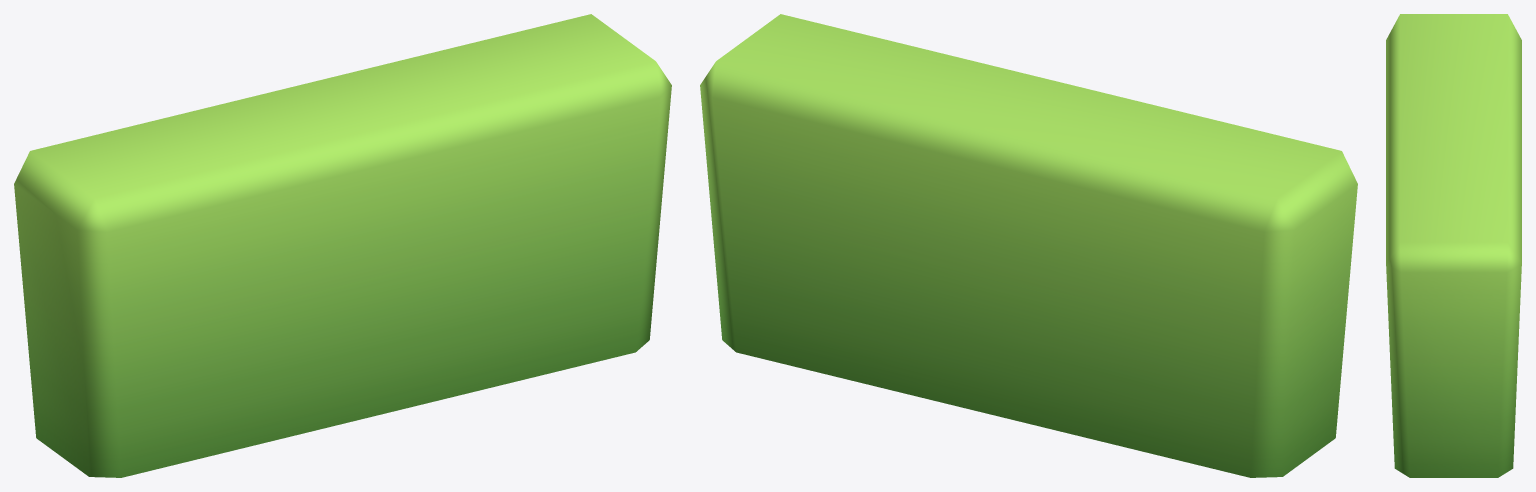
File: city2-bush-01.glb
3 renders of one model, left to right at view 1: azimuth 30°, elevation 25°; view 2: azimuth 150°, elevation 25°; view 3: azimuth 270°, elevation 25°, orthographic. The views are drawn at different scales.
Visible parts, largest first — view 1: Bush_01; view 2: Bush_01; view 3: Bush_01.
Boxes of the visible parts, x1=… form: Bush_01: x1=14, y1=14, x2=671, y2=477; Bush_01: x1=700, y1=14, x2=1357, y2=477; Bush_01: x1=1386, y1=14, x2=1521, y2=477.
Bounding box in the file's own units: 2.12 × 0.9657 × 0.5039.
1 material, 1 textured.
